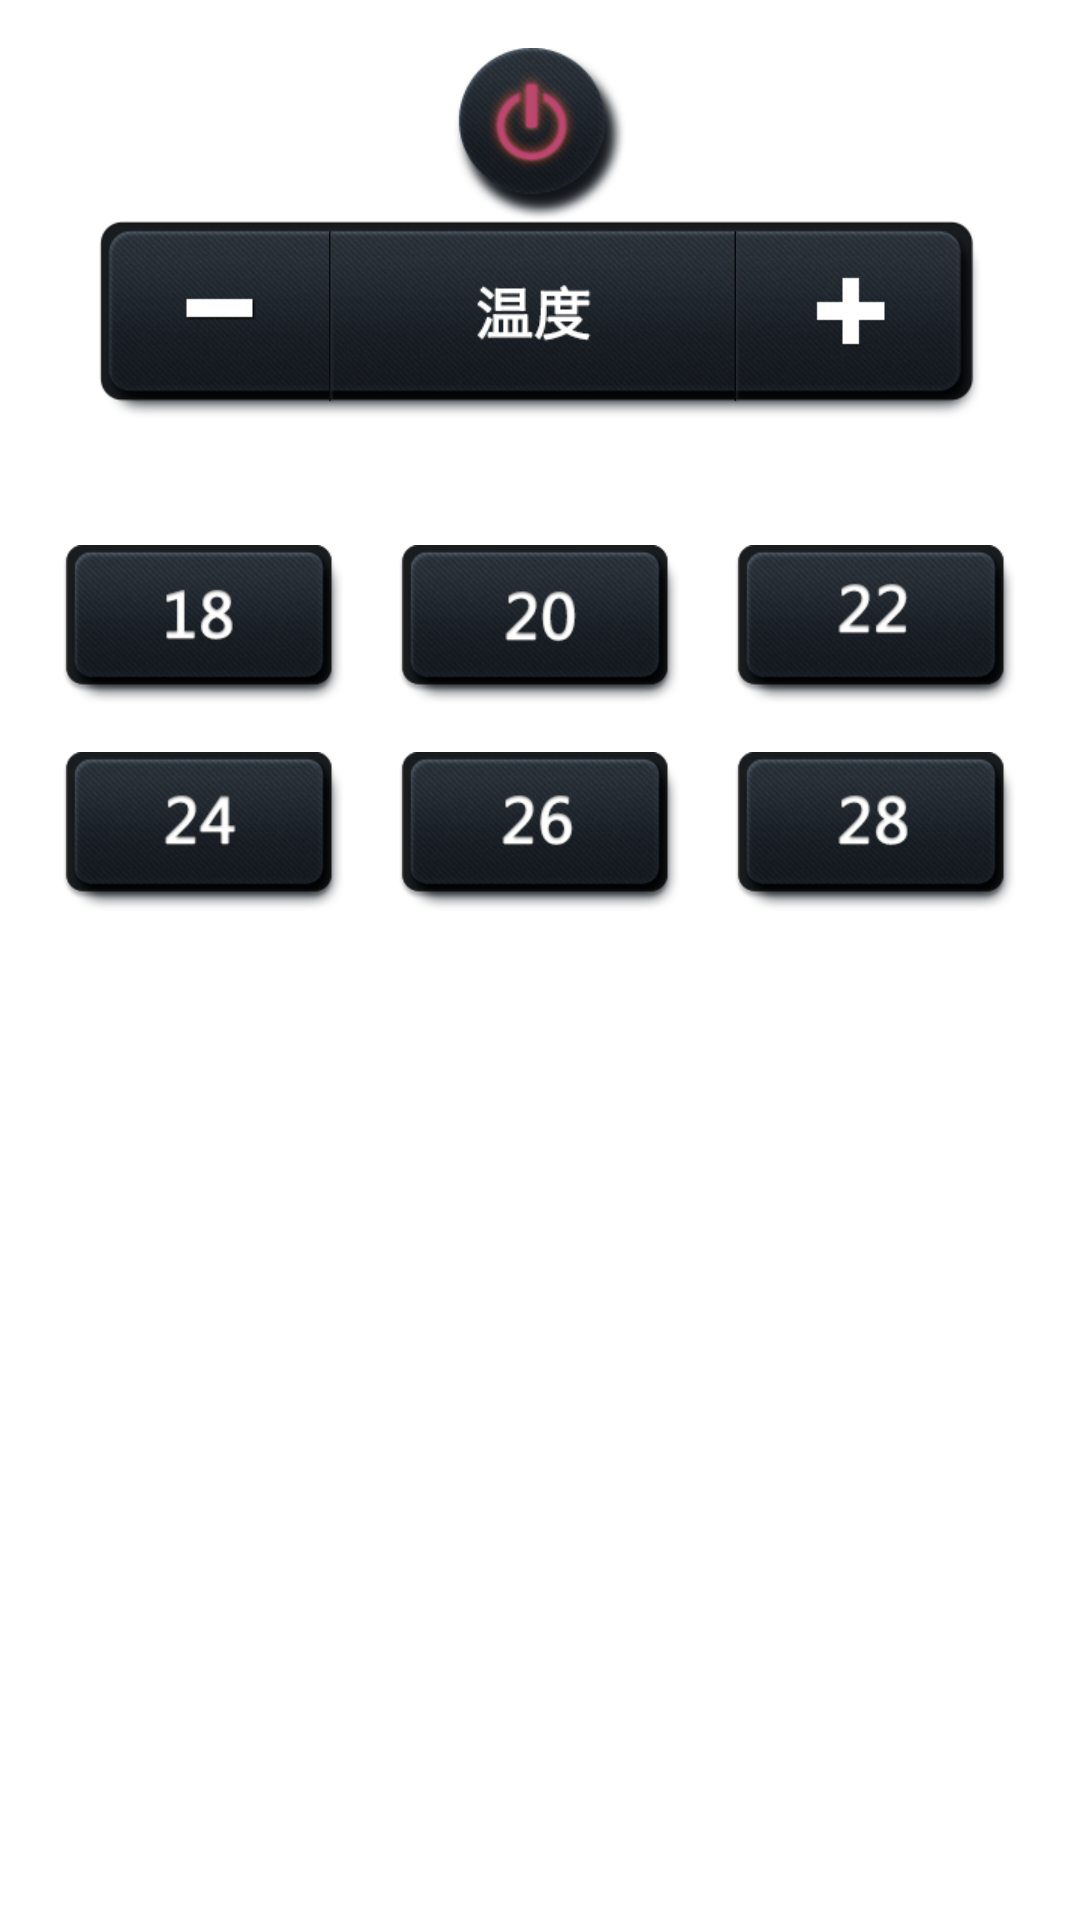

Icons on this 1080×1920 Android screen, each with its box as detection(x1, y1, x2, y2):
remotetypeshutdown: detection(458, 48, 622, 216)
